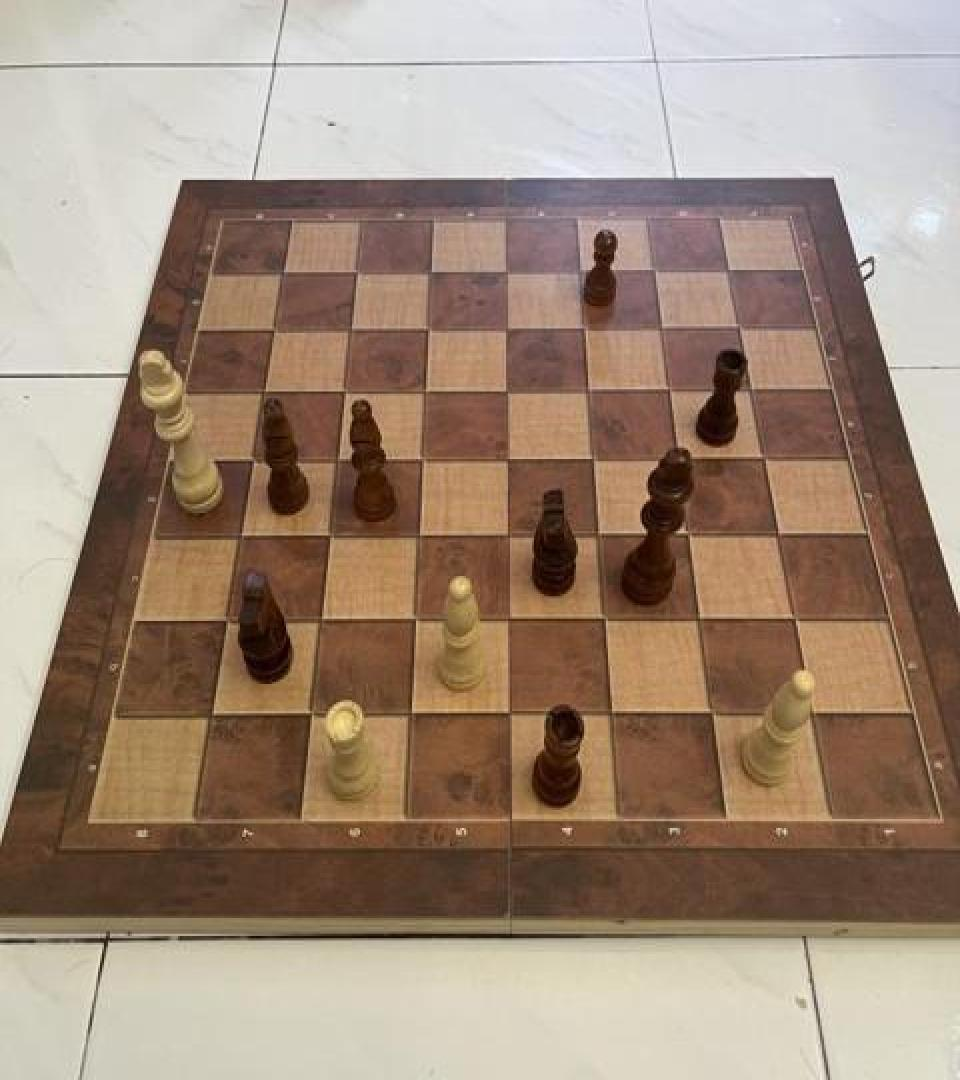xcorner: (209, 597, 245, 638), (305, 597, 341, 638), (403, 514, 439, 555), (493, 514, 529, 555), (583, 514, 619, 555), (673, 514, 709, 555), (762, 514, 798, 555), (734, 370, 770, 411), (567, 307, 603, 348), (645, 307, 681, 348), (722, 307, 758, 348), (195, 692, 231, 732), (295, 692, 331, 732), (396, 692, 432, 732), (496, 692, 532, 732), (597, 692, 633, 732), (697, 692, 733, 732), (797, 692, 833, 732), (400, 599, 436, 639), (495, 599, 531, 639), (589, 599, 625, 639), (684, 599, 720, 639), (779, 599, 815, 639), (223, 513, 259, 553), (313, 513, 349, 553), (235, 438, 271, 478), (321, 438, 357, 478), (406, 438, 442, 478), (492, 438, 528, 478), (577, 438, 613, 478), (662, 438, 698, 478), (748, 439, 784, 479), (246, 368, 282, 408), (327, 369, 363, 409), (409, 369, 445, 409), (490, 369, 526, 409), (572, 369, 608, 409), (653, 369, 689, 409), (256, 306, 292, 346), (334, 306, 370, 346), (412, 306, 448, 346), (489, 306, 525, 346), (265, 249, 301, 289), (339, 249, 375, 289), (414, 249, 450, 289), (488, 250, 524, 290), (563, 250, 599, 290), (637, 250, 673, 290), (711, 250, 747, 290)
